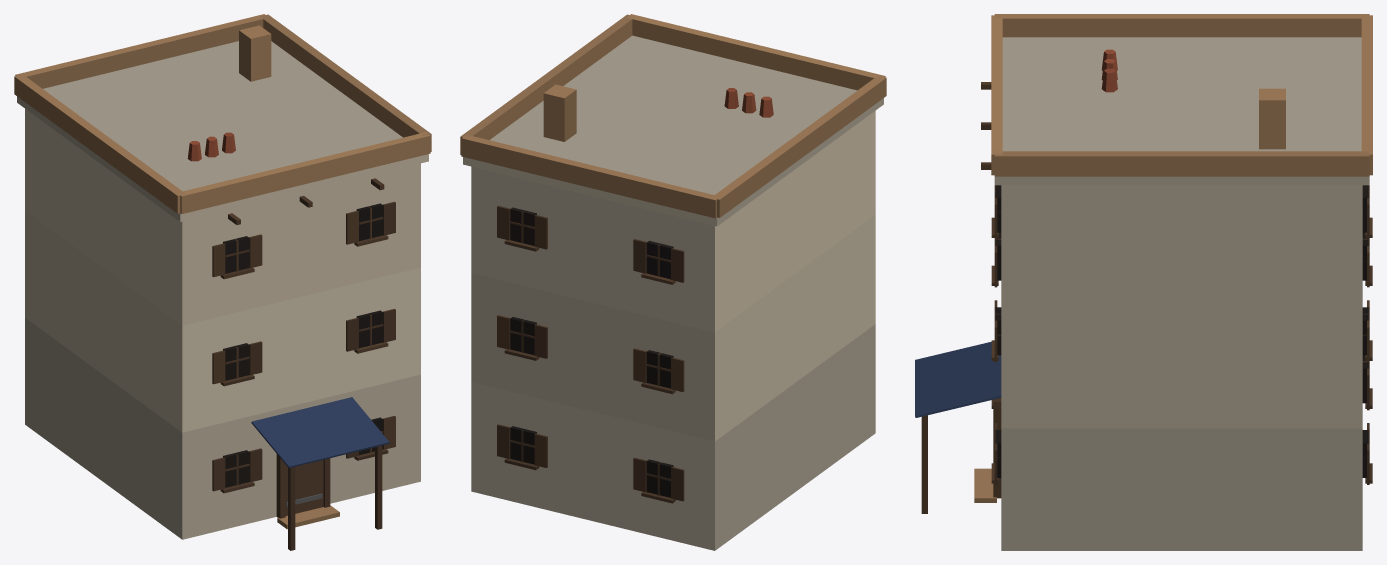
File: walk_sunborn_tall.glb
3 views of the same model, side by side, from view 1: azimuth 30°, elevation 25°; view 2: azimuth 150°, elevation 25°; view 3: azimuth 270°, elevation 25° (orthographic). The views are drawn at different scales.
Parts seen in each view (by area): view 1: walk_sunborn_tall, walk_sunborn_tall_roof; view 2: walk_sunborn_tall, walk_sunborn_tall_roof; view 3: walk_sunborn_tall, walk_sunborn_tall_roof.
Part boxes in pixels (bbox=[...]): walk_sunborn_tall: bbox=[25, 109, 420, 550]; walk_sunborn_tall_roof: bbox=[14, 14, 431, 221]; walk_sunborn_tall: bbox=[471, 111, 875, 550]; walk_sunborn_tall_roof: bbox=[460, 14, 886, 226]; walk_sunborn_tall: bbox=[915, 82, 1372, 550]; walk_sunborn_tall_roof: bbox=[991, 14, 1372, 185].
Size of what is drawn, in the model's own units: 7.45 by 10.6 by 10.14.
Materials: 2 (2 with a texture image).
